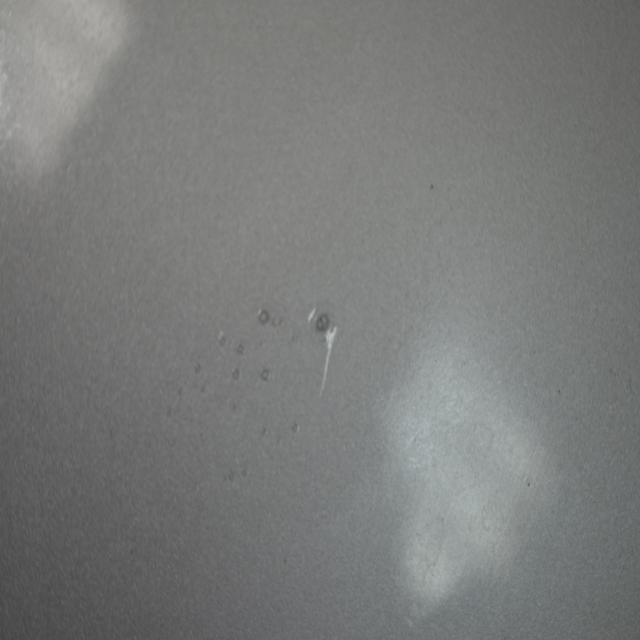dirt: (427, 174, 436, 196), (524, 479, 535, 494)
runs: (155, 299, 345, 500)
water marks: (444, 399, 496, 482), (408, 513, 452, 577)
